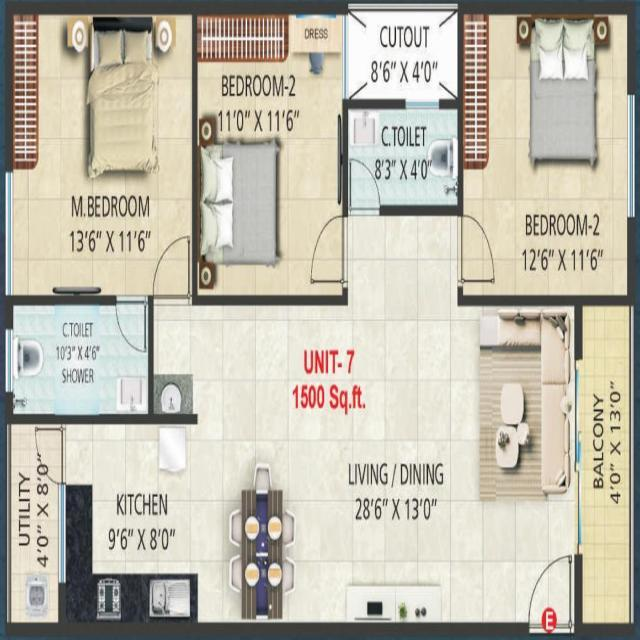Balcony-Sitout: (572, 297, 640, 638)
Bedroom: (458, 0, 640, 304), (191, 1, 351, 305)
Bedroom with Toilet: (0, 1, 199, 304)
Dining: (227, 459, 295, 620)
Enterance-Foyer: (525, 547, 572, 640)
Kitchen: (62, 416, 198, 640)
Living: (451, 299, 581, 556)
Toilet: (2, 302, 152, 423), (343, 103, 465, 215)
Utility: (0, 420, 64, 640)
